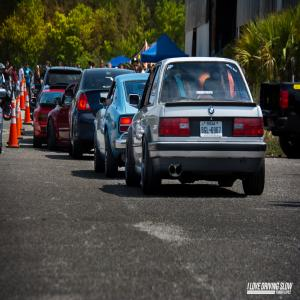Vehicle-registration-plate: (201, 121, 224, 137)
